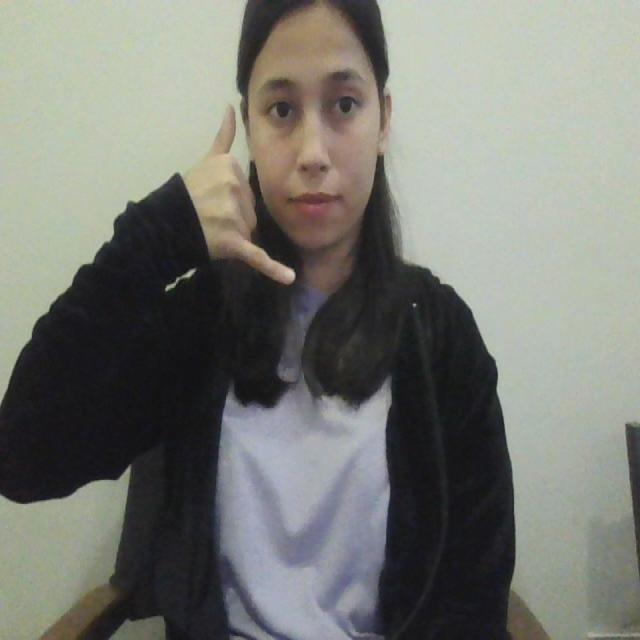Telefon: (174, 92, 302, 290)
